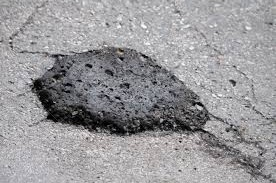pothole: (30, 46, 207, 138)
